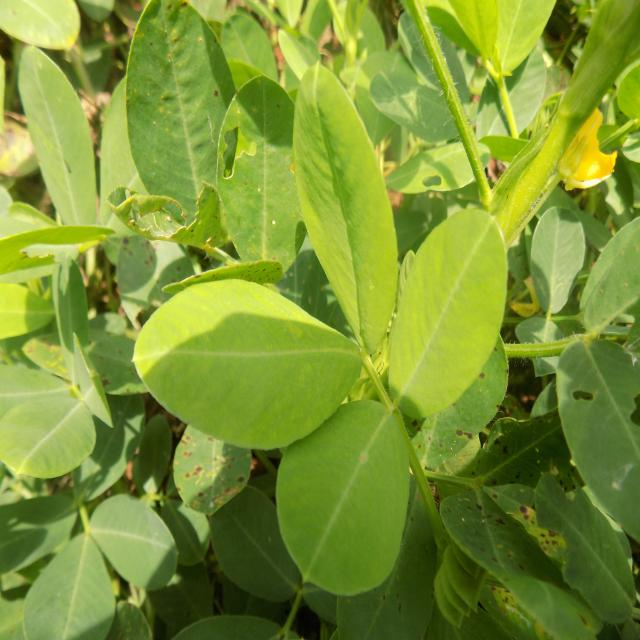Ground nut_healthy: (131, 279, 355, 442), (288, 65, 398, 361), (284, 393, 412, 593), (388, 206, 504, 418), (88, 492, 183, 596)
